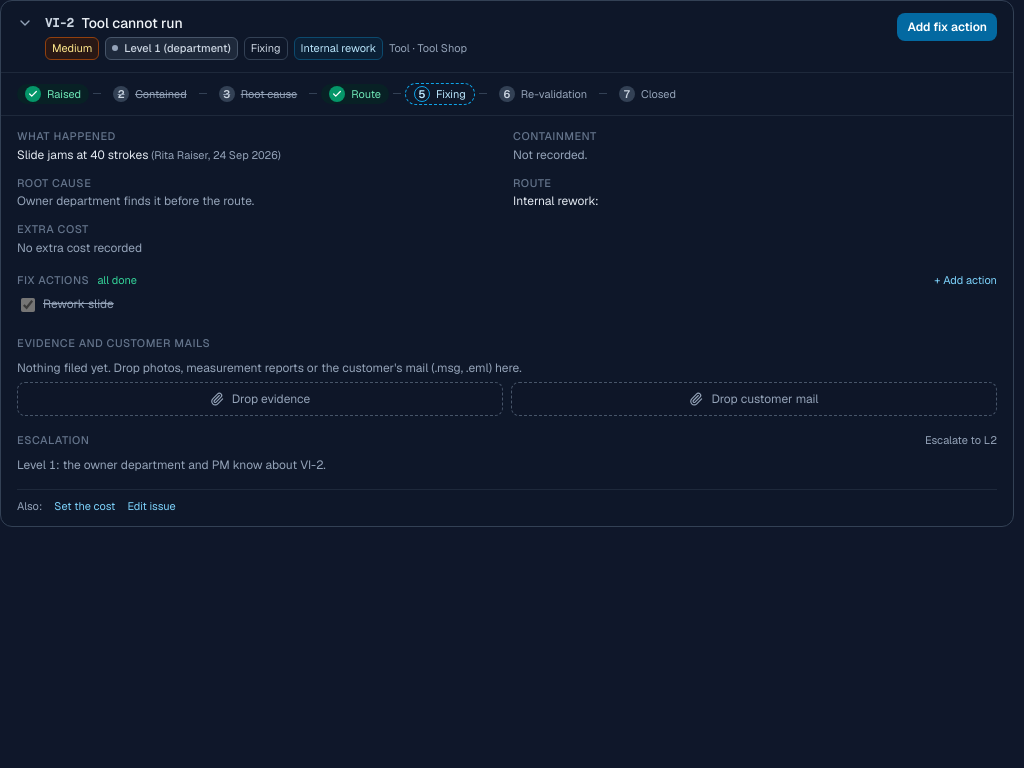
Test: follow-ups: recheck, add_action, acts after close › the backend primary_act wins: add_action leads after a failed re-validation and opens the add row
What coordinates should you click on to do the following:
click the button with test id "issue-primary-11"
I would click on:
 (947, 27)
Its box is top-left (898, 13), bottom-right (997, 41).
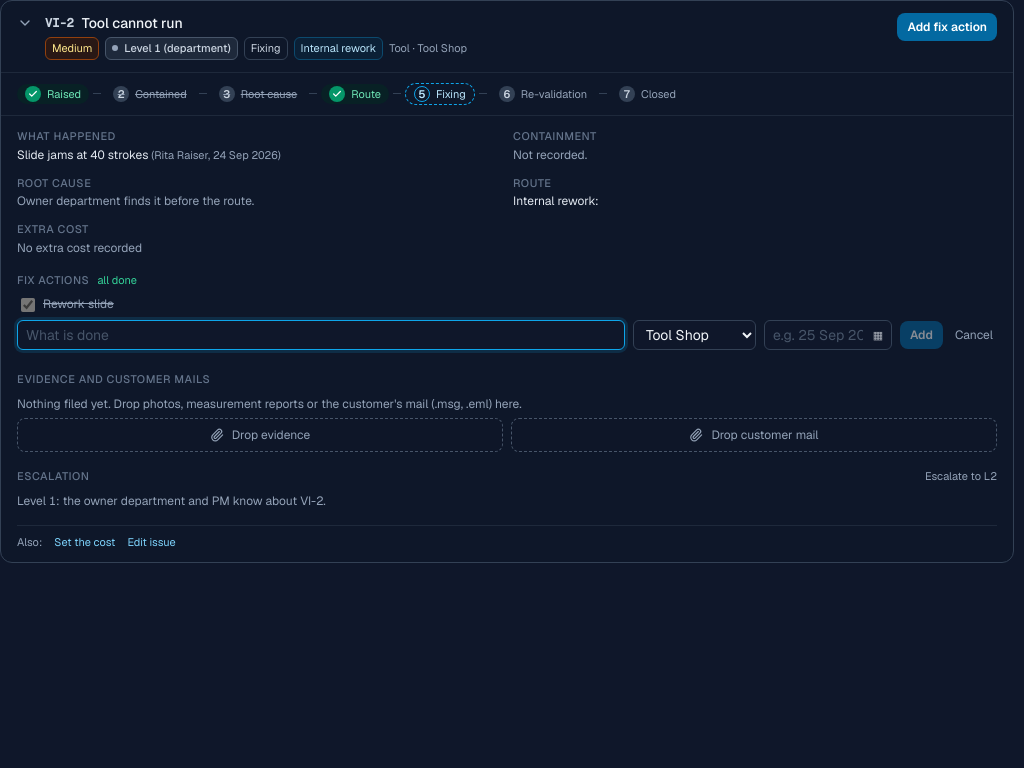
Check: the field with test id "issue-action-text-11" is shown, box top-left (17, 320), bottom-right (625, 350)
